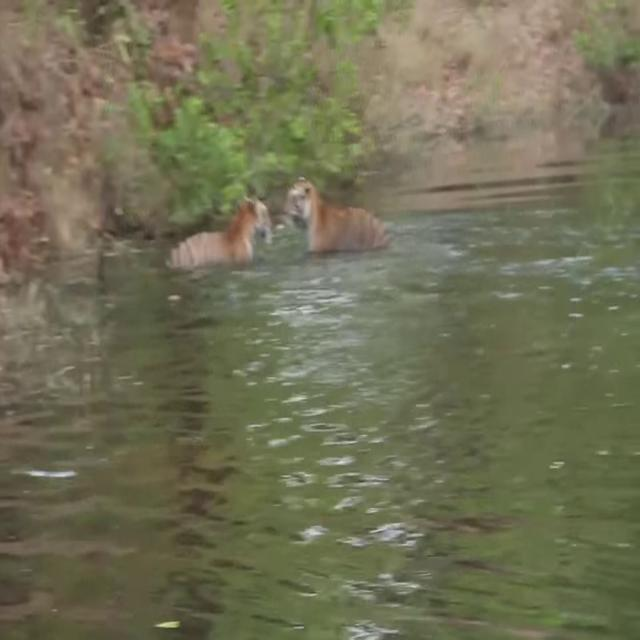tiger: (287, 175, 396, 253), (172, 186, 274, 265)
